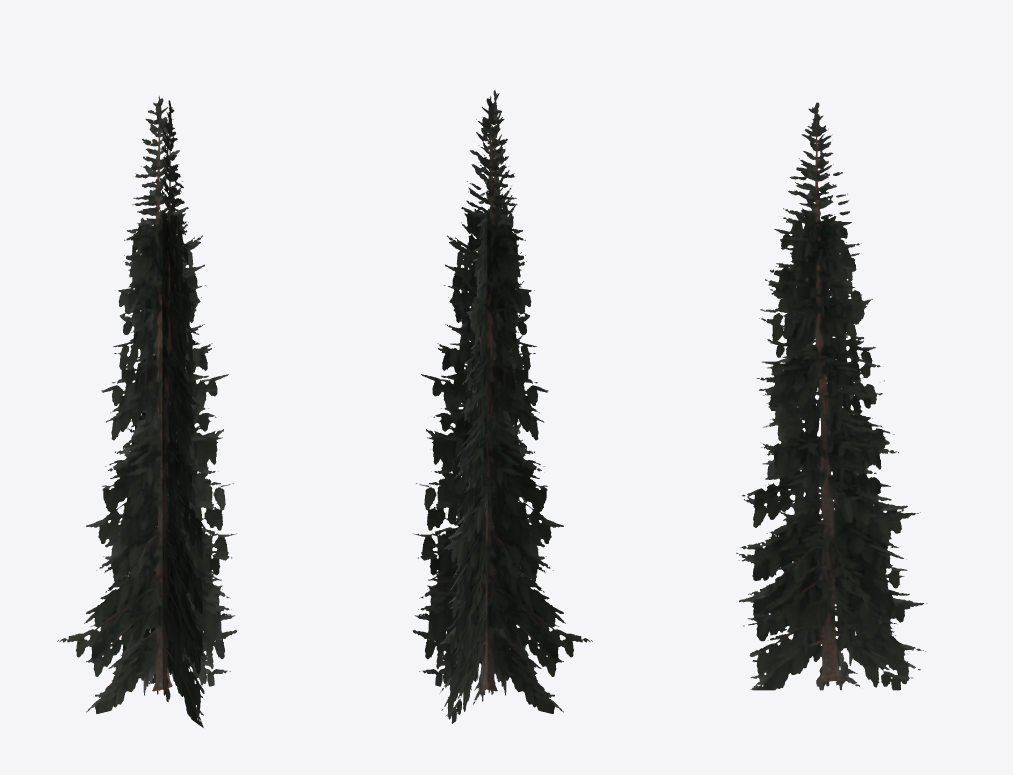
Rendered from spruce_c_LOD2_billboard.fbx.
3 renders of one model, left to right at view 1: azimuth 30°, elevation 25°; view 2: azimuth 150°, elevation 25°; view 3: azimuth 270°, elevation 25°, orthographic. The views are drawn at different scales.
Visible parts, largest first — view 1: Spruce_C_LOD2_Billboard; view 2: Spruce_C_LOD2_Billboard; view 3: Spruce_C_LOD2_Billboard.
Boxes of the visible parts, x1,y1,x2,y2 form: Spruce_C_LOD2_Billboard: (57, 96, 237, 727); Spruce_C_LOD2_Billboard: (412, 90, 592, 723); Spruce_C_LOD2_Billboard: (736, 102, 927, 690).
Size of the model in its own units: 14.62 by 29.23 by 14.62.
Materials: 1 (1 with a texture image).
